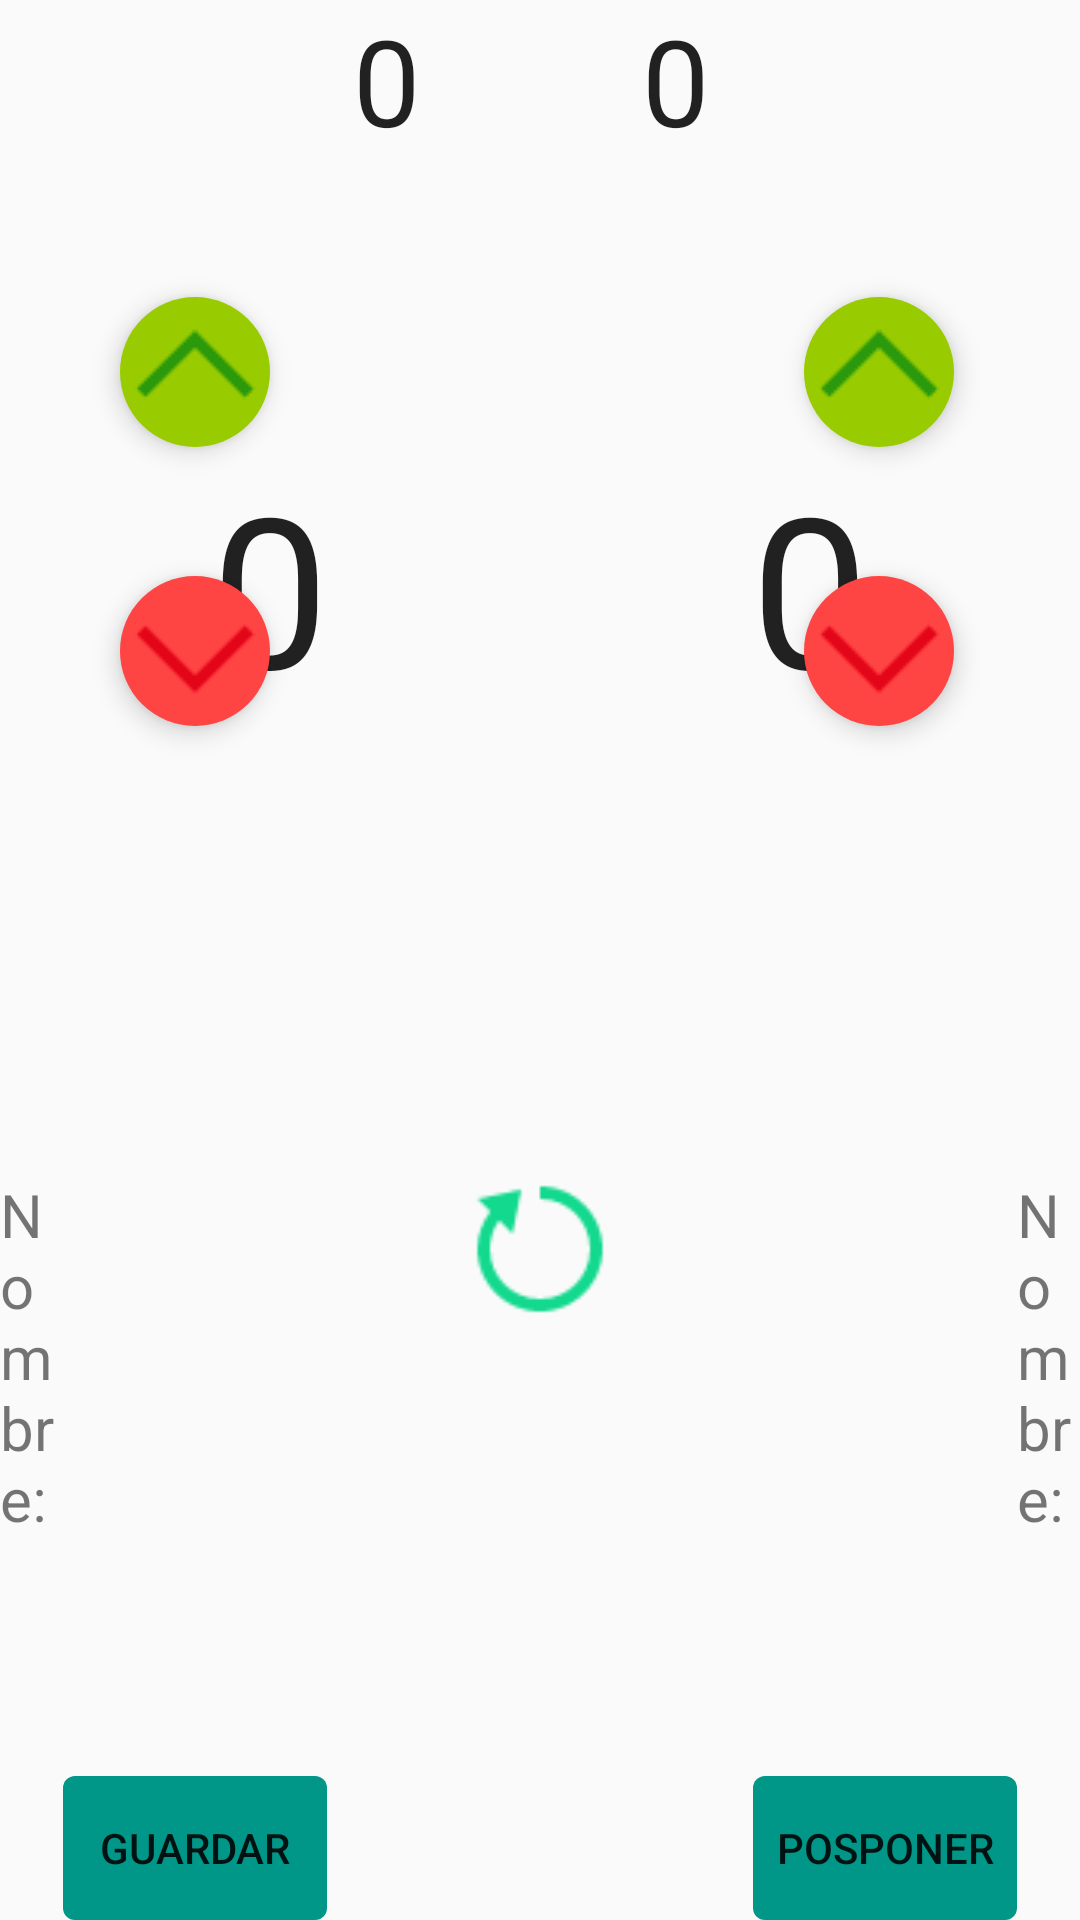

Icon bounding boxes for this 1080 x 1920 phone screenshot, format (x1, y1, x2, y2):
bajarpunto: (120, 576, 270, 726), (804, 576, 954, 726)
restart: (476, 1185, 604, 1313)
subirpunto: (120, 297, 270, 447), (804, 297, 954, 447)
